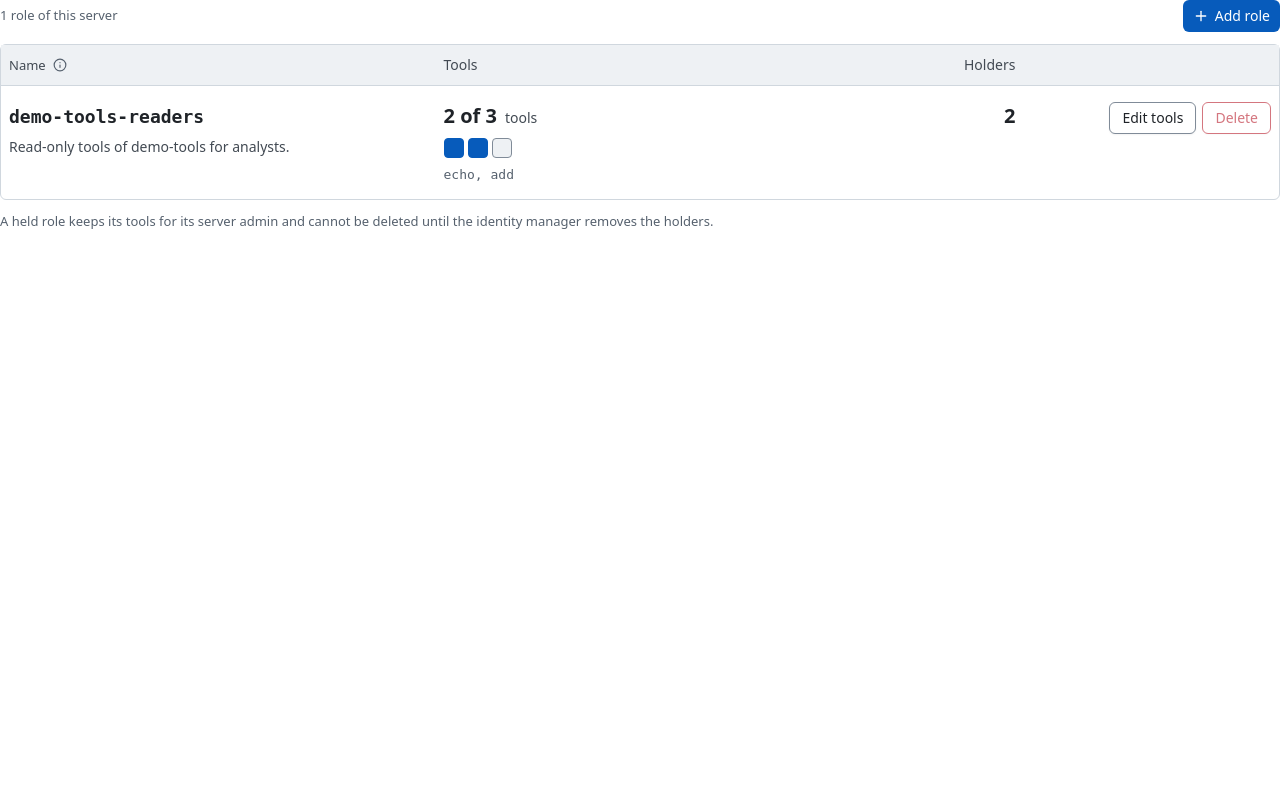
Scenario: the Roles tab of a server › leaves Edit tools open to a global admin on a held role and keeps Delete refused
Click the button "Edit tools": x=1153, y=118 [1109,102,1196,134]
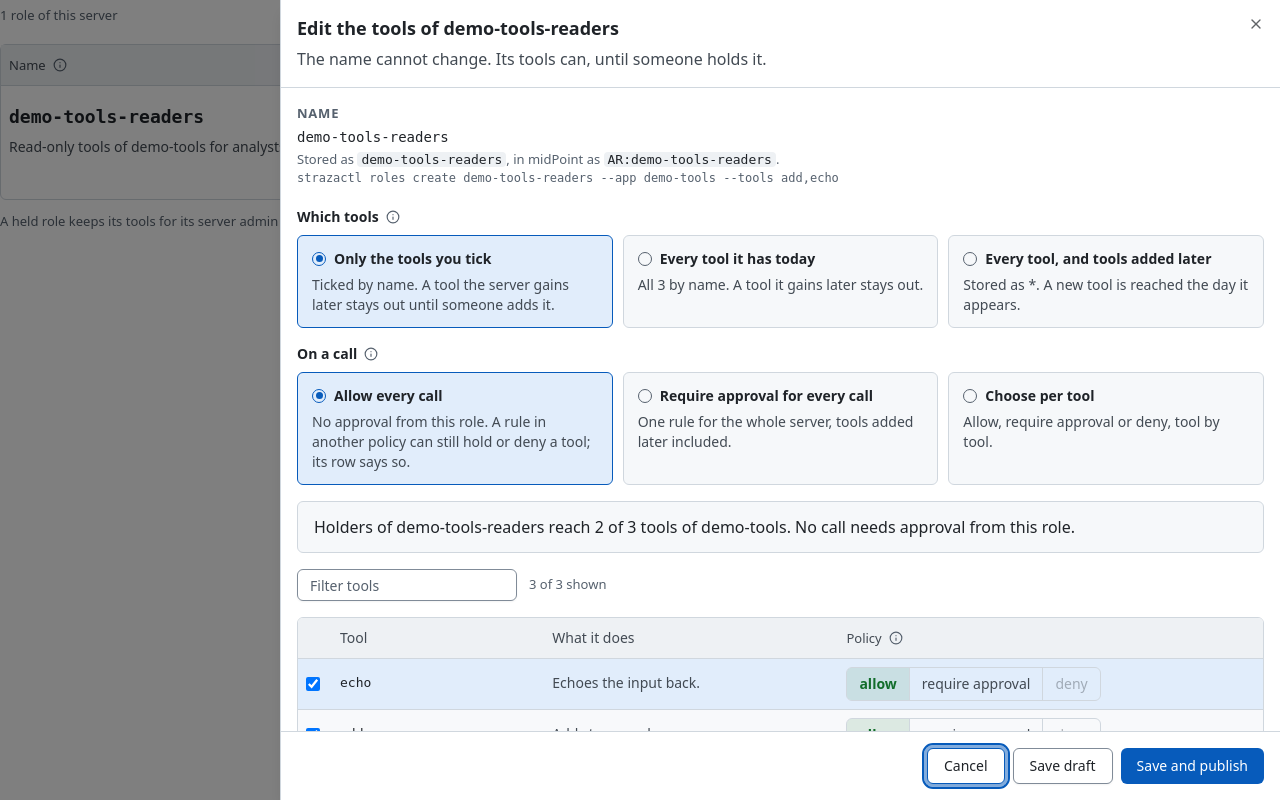
Check: the dialog is shown
Check: the heading "Edit the tools of demo-tools-readers" is shown, box [297,16,619,40]
